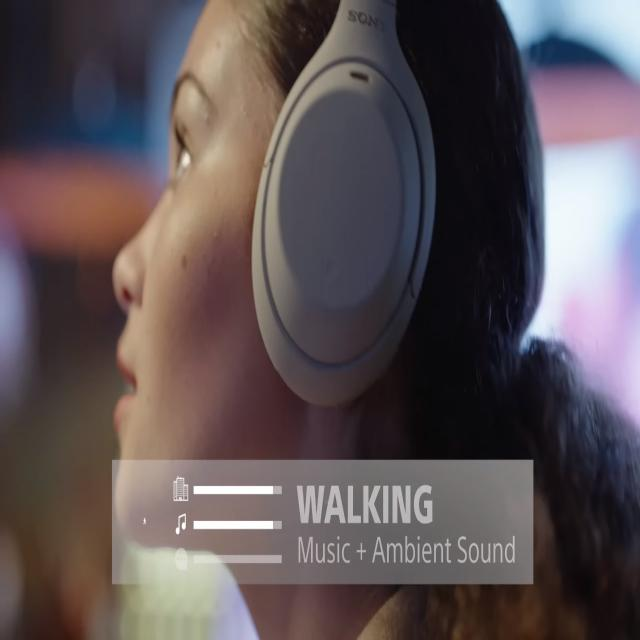Headphone: (251, 1, 438, 408)
